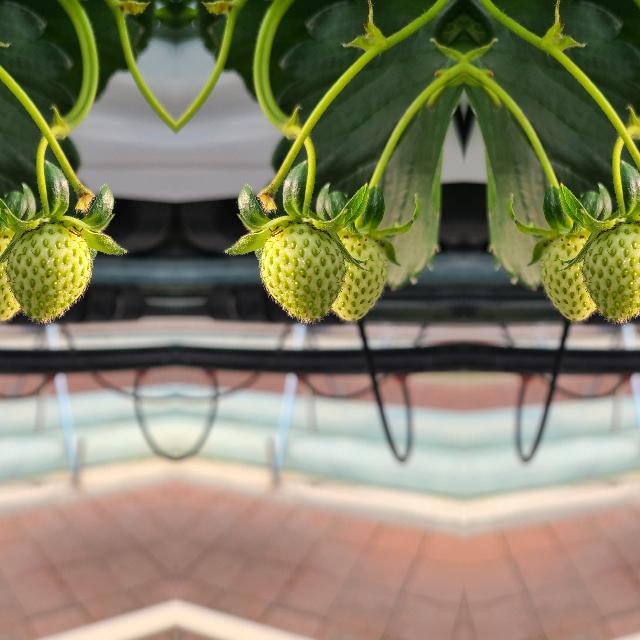Health_25: (258, 225, 344, 322), (6, 225, 92, 322), (582, 225, 640, 322), (331, 228, 387, 322), (539, 228, 595, 322), (0, 227, 19, 322)
